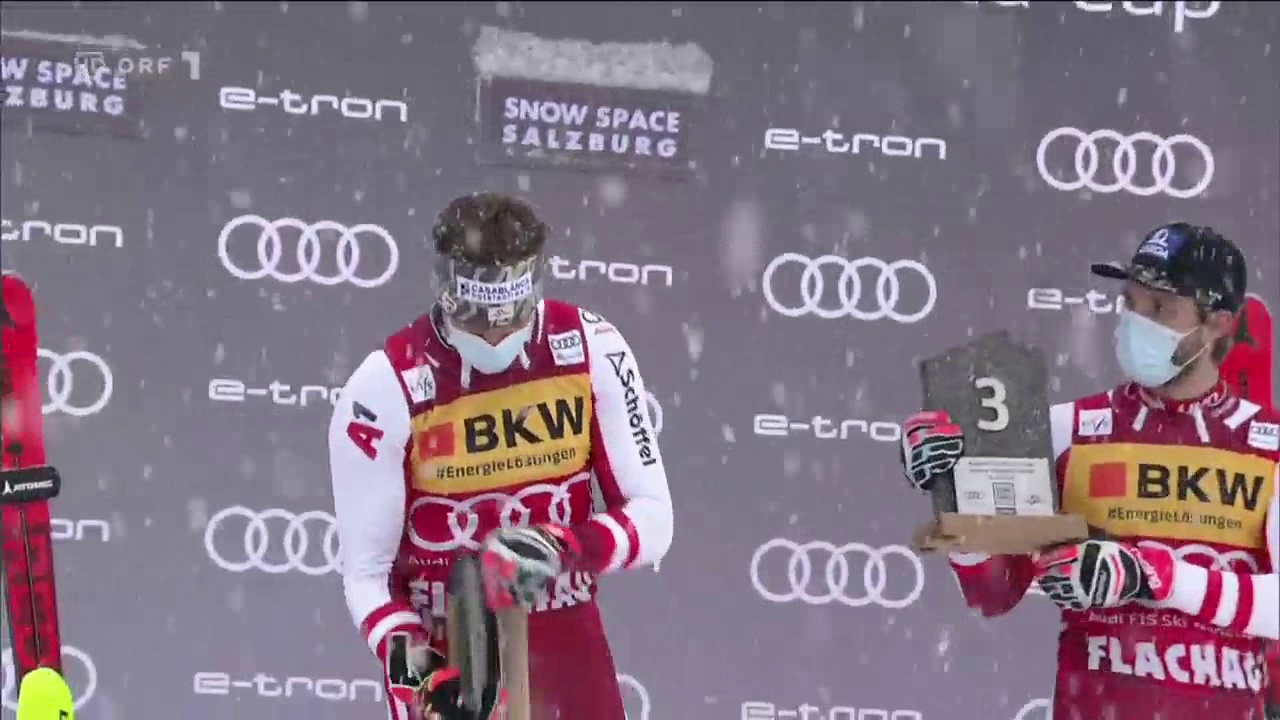a1: (344, 407, 385, 463)
audi: (213, 220, 395, 290), (1036, 128, 1209, 201), (768, 255, 937, 327), (748, 543, 917, 612), (406, 486, 579, 552), (205, 507, 341, 585)
etron: (184, 669, 382, 708), (216, 87, 410, 126), (767, 129, 946, 161), (748, 412, 915, 446), (537, 252, 681, 291), (213, 377, 355, 413), (5, 512, 121, 549), (5, 216, 124, 252), (1027, 283, 1122, 316)
flachau: (1063, 622, 1267, 718)
